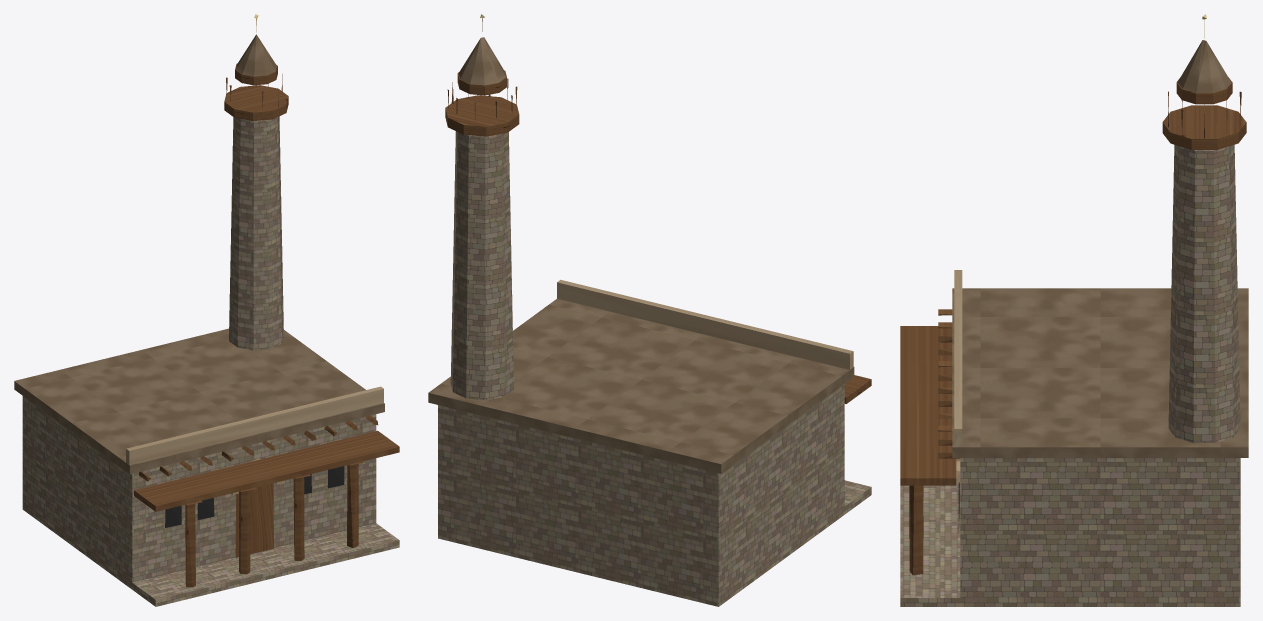
Rendered from mosque_juma_lod1.glb.
The picture shows the model from 3 angles, left to right: view 1: azimuth 30°, elevation 25°; view 2: azimuth 150°, elevation 25°; view 3: azimuth 270°, elevation 25°; orthographic projection. The views are drawn at different scales.
Visible parts, largest first — view 1: m; view 2: m; view 3: m.
Part boxes in pixels (x1=…): m: x1=14, y1=14, x2=399, y2=606; m: x1=428, y1=14, x2=871, y2=606; m: x1=900, y1=14, x2=1248, y2=606.
Bounding box in the file's own units: 9.4 × 15.93 × 8.7.
6 materials, 4 textured.
